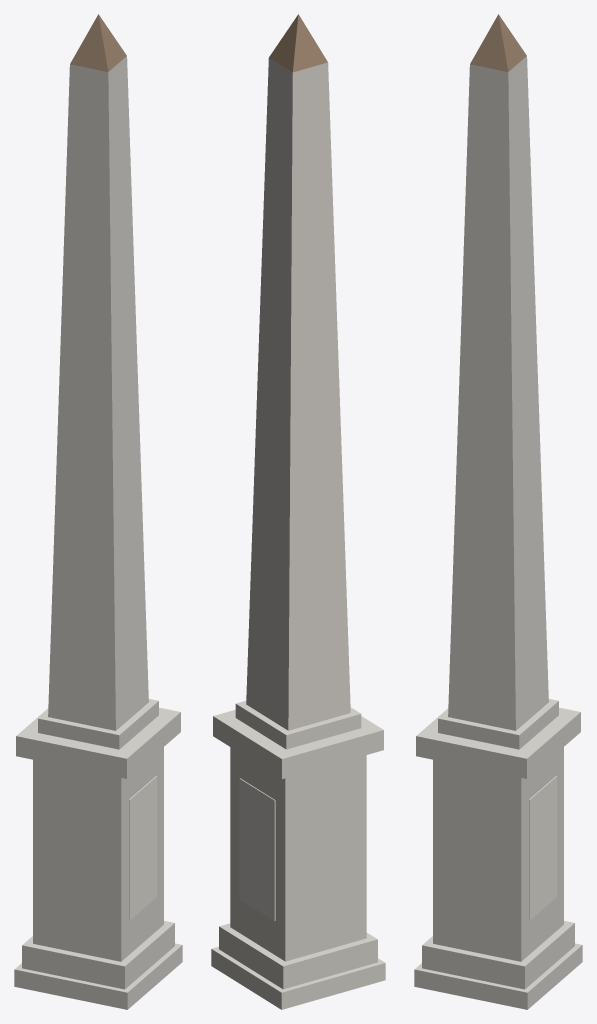
File: detail.glb
3 views of the same model, side by side, from view 1: azimuth 90°, elevation 25°; view 2: azimuth 150°, elevation 25°; view 3: azimuth 270°, elevation 25° (orthographic).
Parts seen in each view (by area): view 1: stone, trim, metal; view 2: stone, trim, metal; view 3: stone, trim, metal.
Part boxes in pixels (x1,y1,x2,y2): stone: (14,56,182,1009); trim: (129,776,157,920); metal: (70,14,126,71); stone: (211,58,385,1009); trim: (239,778,275,920); metal: (269,14,327,72); stone: (414,56,582,1009); trim: (529,776,557,920); metal: (470,14,526,71).
Size of the model in its own units: 5.29 by 33.37 by 5.29.
